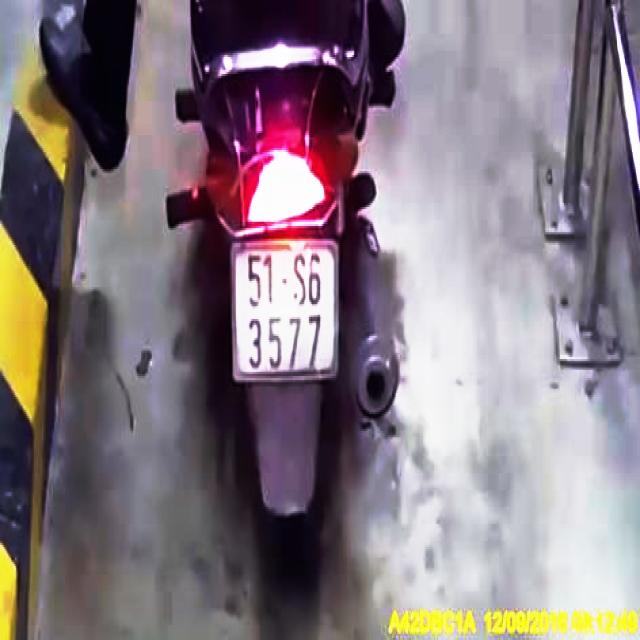license_plate: (233, 248, 339, 378)
